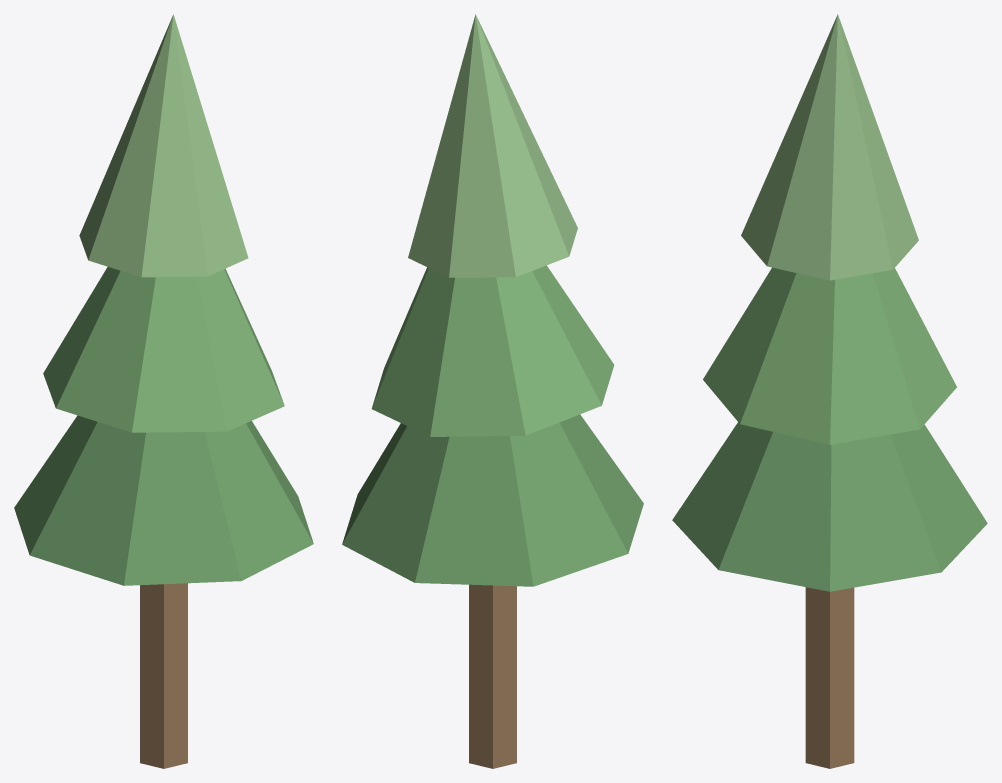
File: animprop_pine_01.glb
3 views of the same model, side by side, from view 1: azimuth 30°, elevation 25°; view 2: azimuth 150°, elevation 25°; view 3: azimuth 270°, elevation 25° (orthographic).
Visible parts, largest first — view 1: animprop; view 2: animprop; view 3: animprop.
Part boxes in pixels (bbox=[...]): animprop: bbox=[14, 14, 313, 768]; animprop: bbox=[342, 14, 643, 768]; animprop: bbox=[672, 14, 987, 768].
Bounding box in the file's own units: 1.24 × 3.25 × 1.24.
